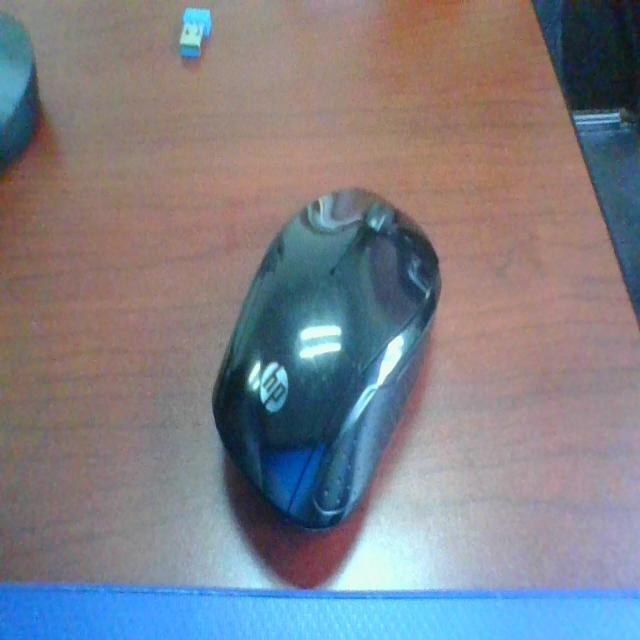mouse: (207, 188, 478, 573)
